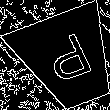P_SE: (38, 30, 98, 90)
